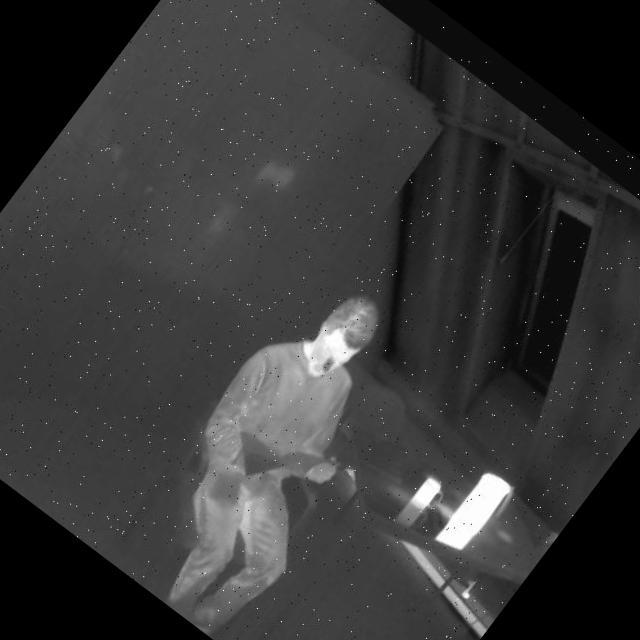person: (98, 254, 458, 640)
